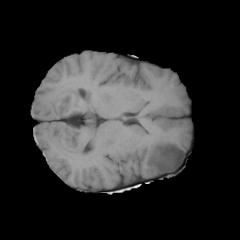glioma: (147, 140, 186, 174)
